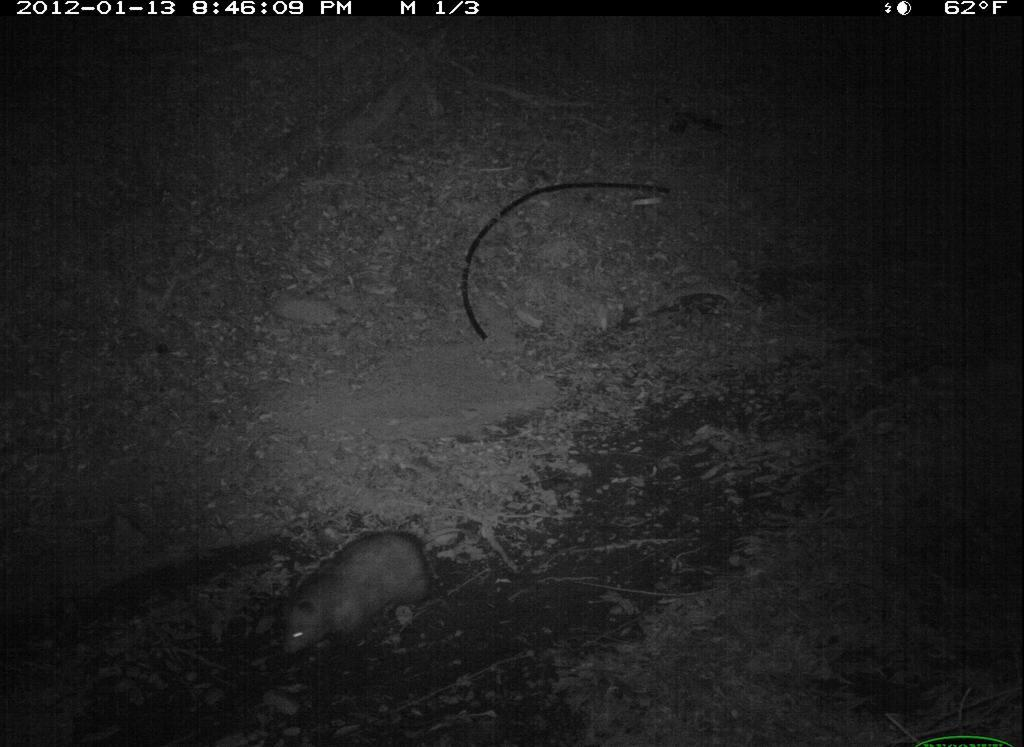opossum: (267, 516, 484, 671)
